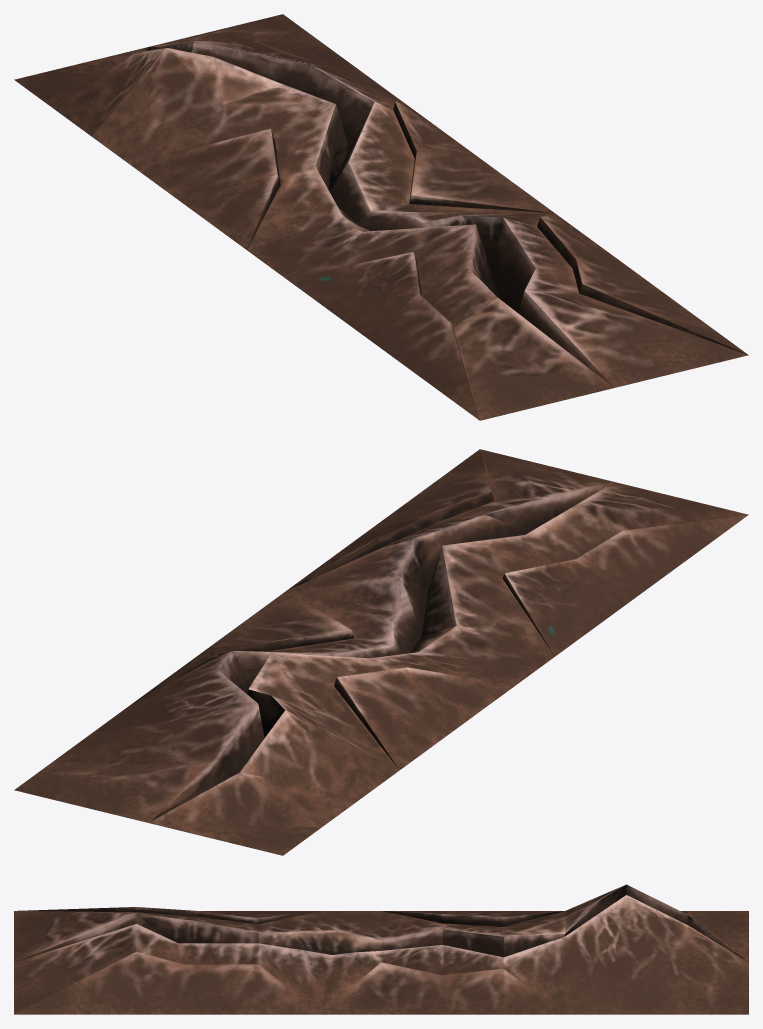
The model's file is separation.fbx.
3 renders of one model, top to bottom at view 1: azimuth 30°, elevation 25°; view 2: azimuth 150°, elevation 25°; view 3: azimuth 270°, elevation 25°, orthographic. The views are drawn at different scales.
Visible parts, largest first — view 1: separation; view 2: separation; view 3: separation.
Boxes of the visible parts, x1,y1,x2,y2 form: separation: [14, 14, 748, 420]; separation: [14, 449, 748, 855]; separation: [14, 884, 748, 1014].
Bounding box in the file's own units: 200 × 50 × 600.
